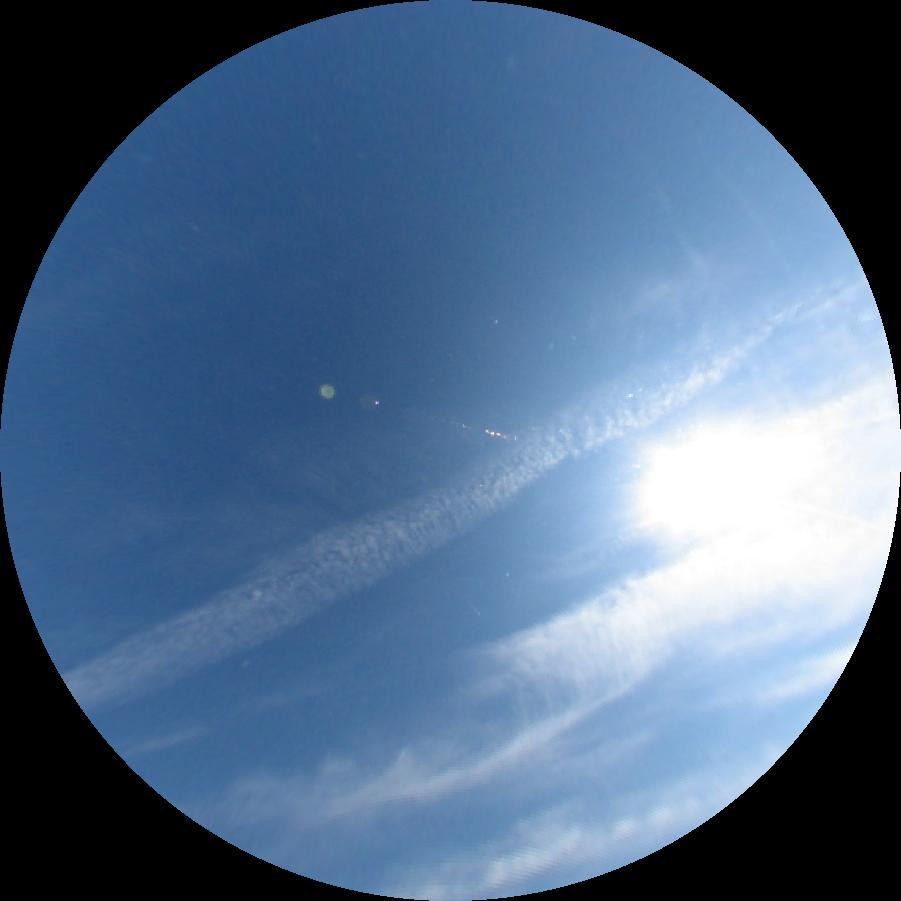contrail veryold: (60, 252, 882, 727), (653, 183, 705, 270)
sun: (644, 438, 805, 528)
